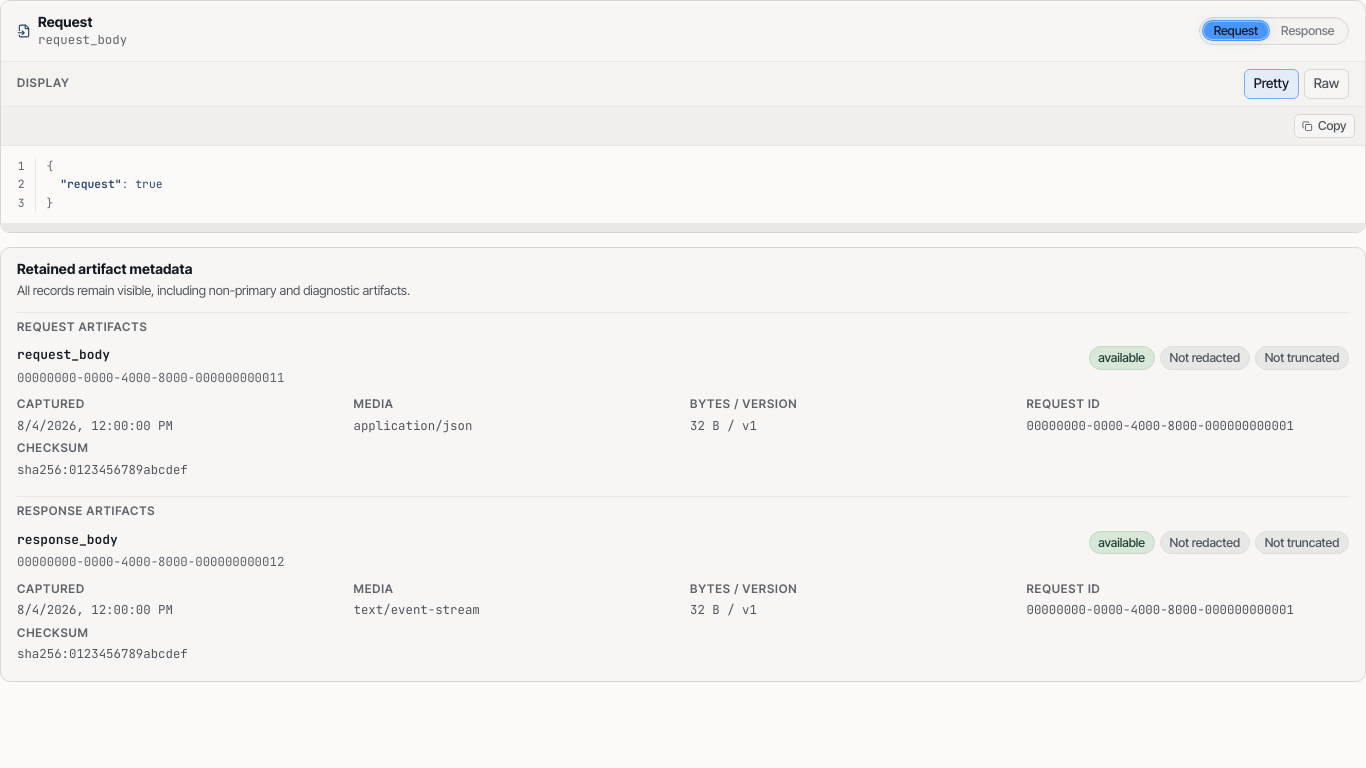
Test case: LogRequestPayloads › preserves raw format when the response is an event stream
The width and height of the screenshot is (1366, 768).
Click the radio button labelled "Raw" at [1326, 84], box left=1304, top=69, right=1349, bottom=99
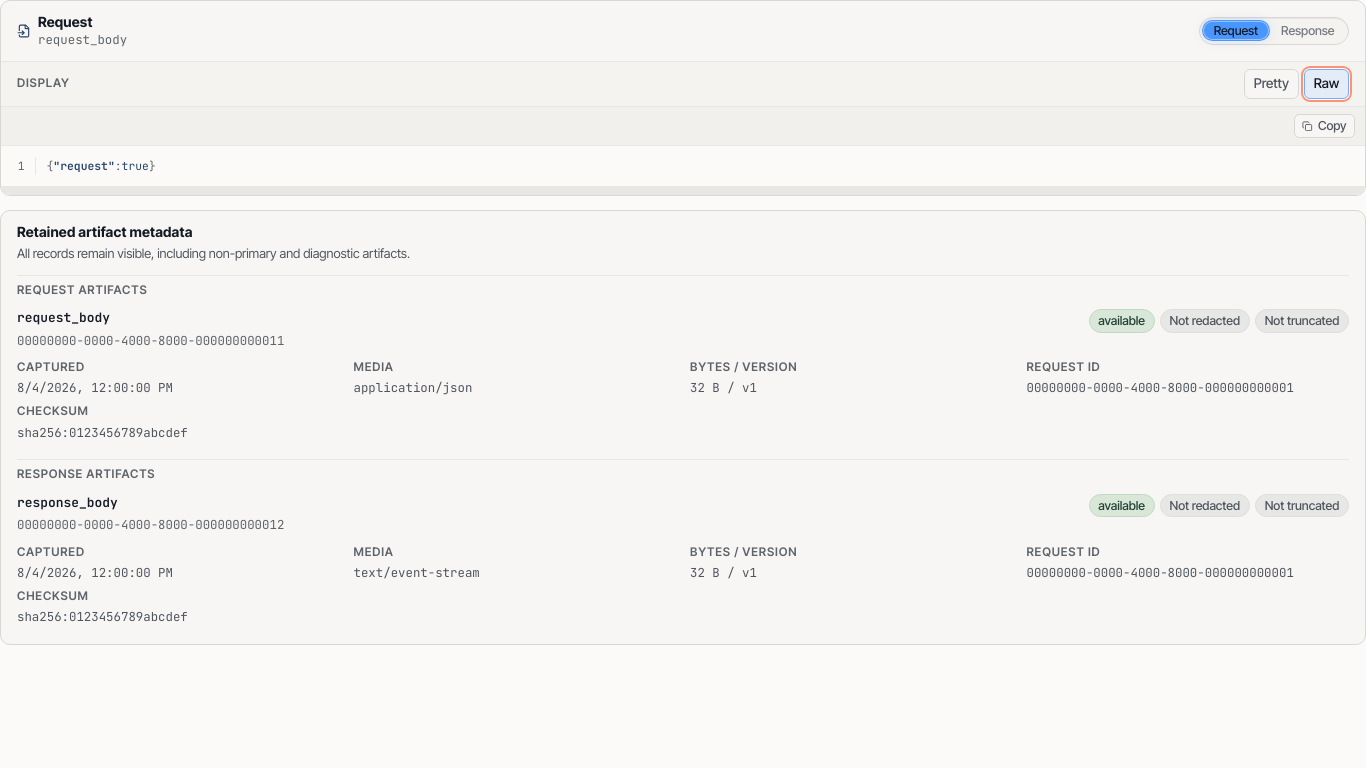
Click the radio button labelled "Response" at [1308, 31], box left=1270, top=20, right=1346, bottom=41
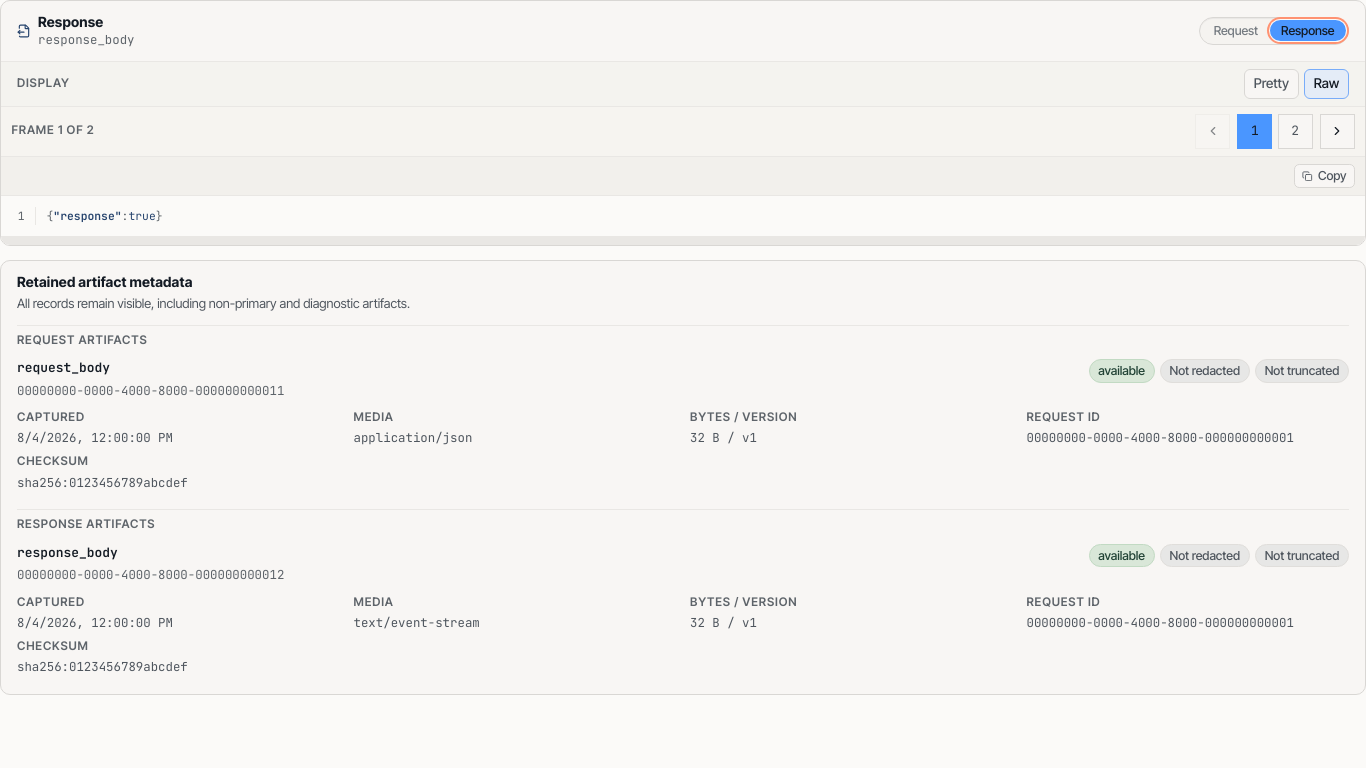
expect the radio button labelled "Raw" is checked: met, box left=1304, top=69, right=1349, bottom=99
expect the element named "Response event stream frame 1" is shown: met, box left=1, top=107, right=1365, bottom=236
expect the number of elements named "Display" is 1: met, box left=1244, top=69, right=1349, bottom=99
